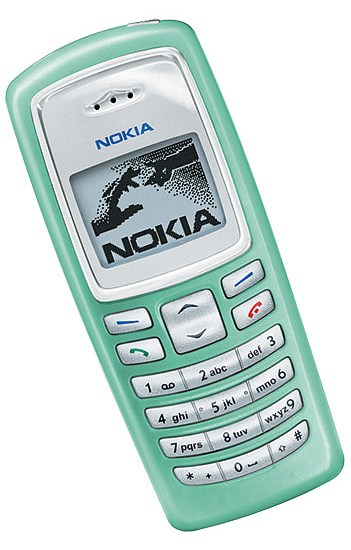Phone: (4, 18, 346, 533)
